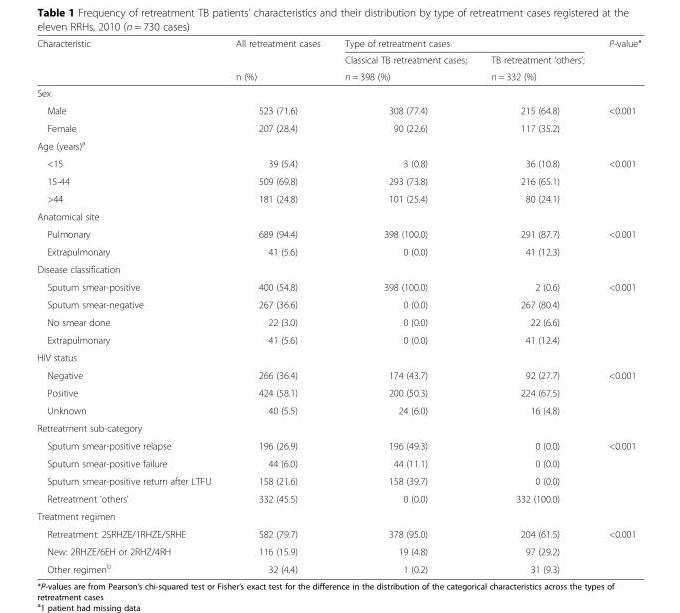table: (36, 37, 640, 574)
table column: (36, 37, 222, 574), (331, 37, 478, 574), (478, 37, 595, 574), (222, 37, 331, 574), (595, 37, 640, 574)
table column header: (36, 37, 640, 84)
table projected row header: (36, 135, 640, 154), (36, 348, 640, 366), (36, 418, 640, 436), (36, 84, 640, 101), (36, 207, 640, 224), (36, 260, 640, 277), (36, 507, 640, 524)
table row: (36, 135, 640, 154), (36, 101, 640, 119), (36, 154, 640, 172), (36, 189, 640, 207), (36, 224, 640, 242), (36, 242, 640, 260), (36, 277, 640, 295), (36, 295, 640, 313), (36, 330, 640, 348), (36, 348, 640, 366), (36, 383, 640, 401), (36, 418, 640, 436), (36, 436, 640, 454), (36, 471, 640, 489), (36, 489, 640, 507), (36, 524, 640, 542), (36, 67, 640, 84), (36, 84, 640, 101), (36, 172, 640, 189), (36, 207, 640, 224), (36, 260, 640, 277), (36, 313, 640, 330), (36, 366, 640, 383), (36, 401, 640, 418), (36, 454, 640, 471), (36, 507, 640, 524), (36, 542, 640, 559), (36, 51, 640, 67), (36, 119, 640, 135), (36, 559, 640, 574), (36, 37, 640, 51)
table spanning cell: (36, 37, 222, 84), (222, 37, 331, 84), (331, 51, 478, 84), (478, 51, 595, 84), (331, 37, 595, 51), (595, 37, 640, 84)
